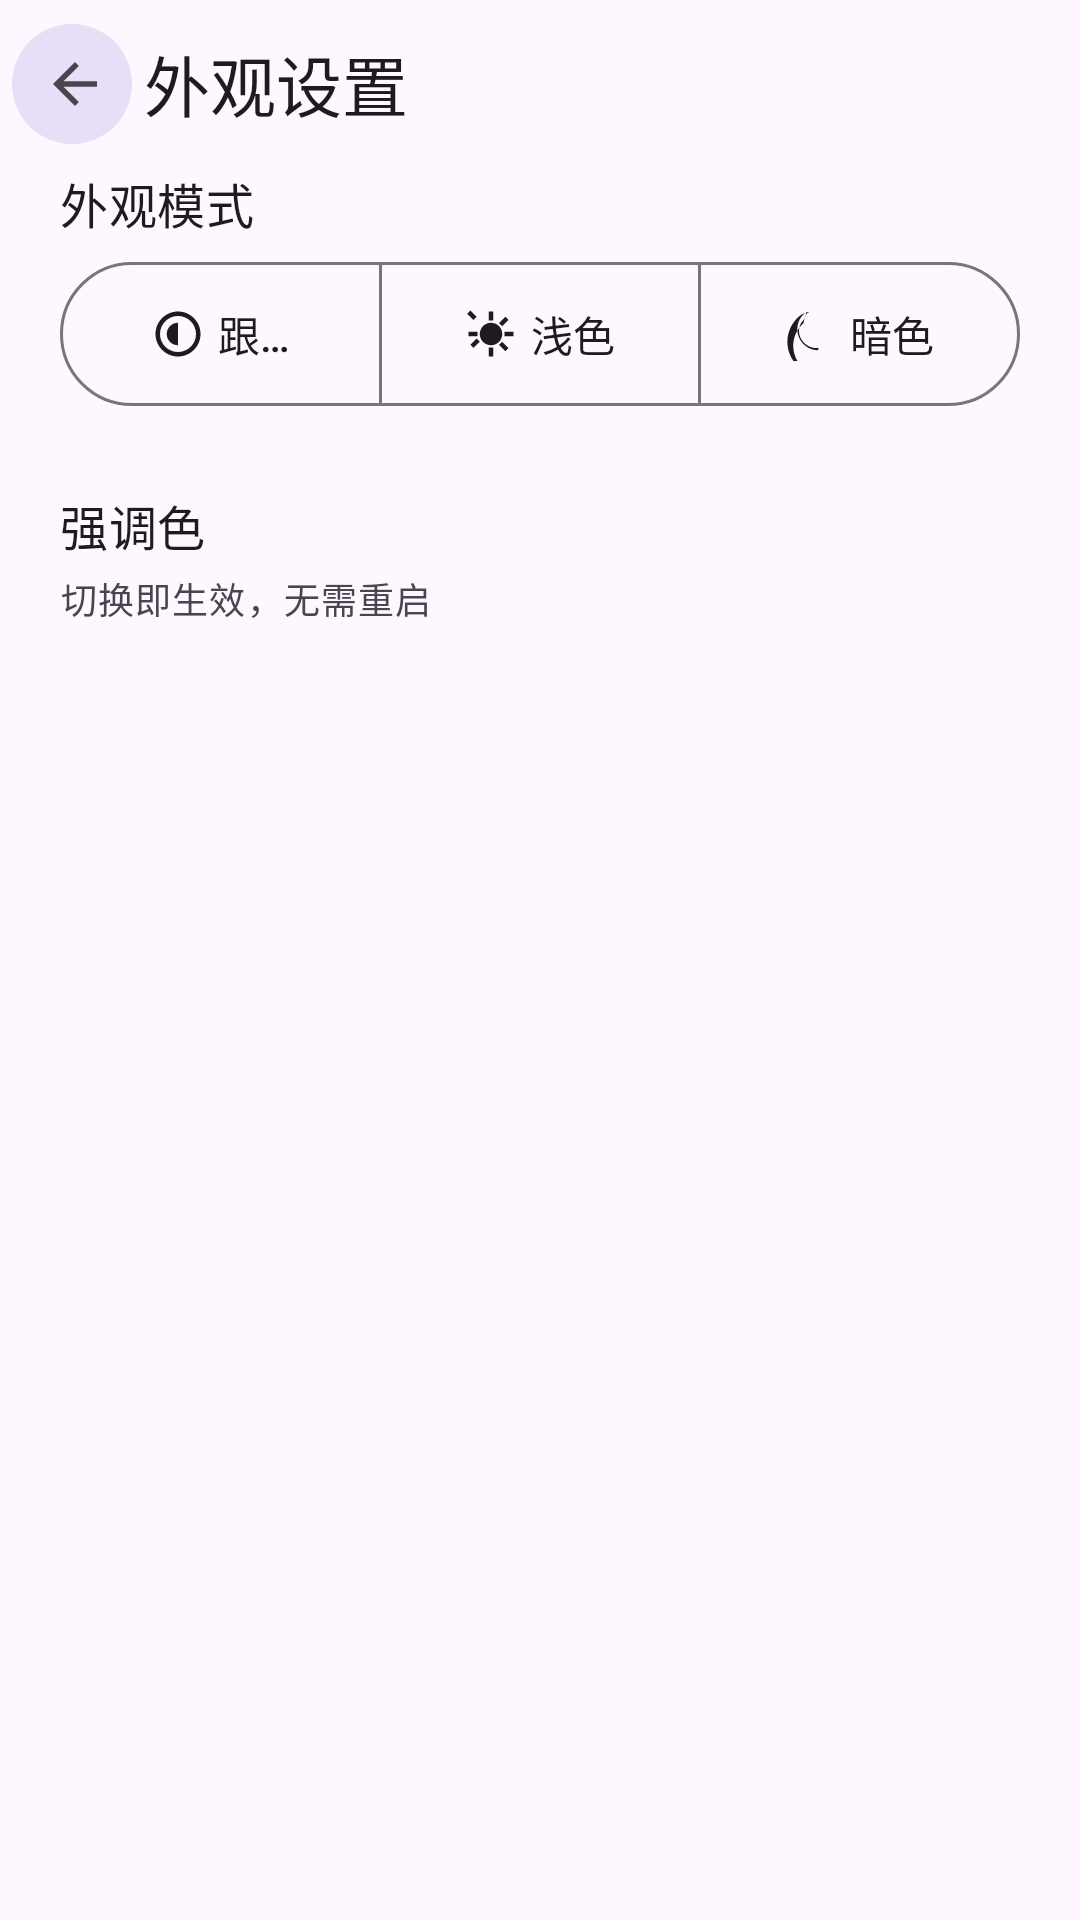

Point at icon controls on the screen. Image size 1080 × 1920, points as (x=x, y=y).
返回: (x=72, y=84)
